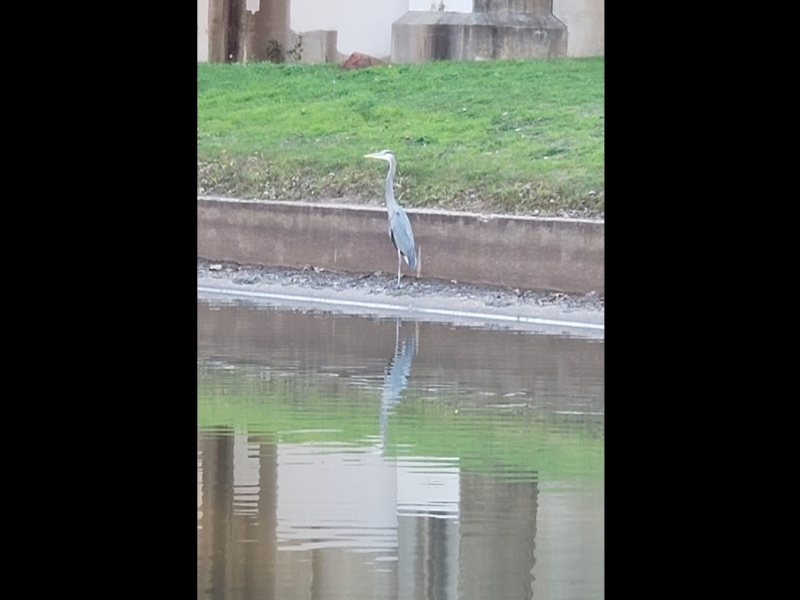heron: (364, 147, 417, 274)
